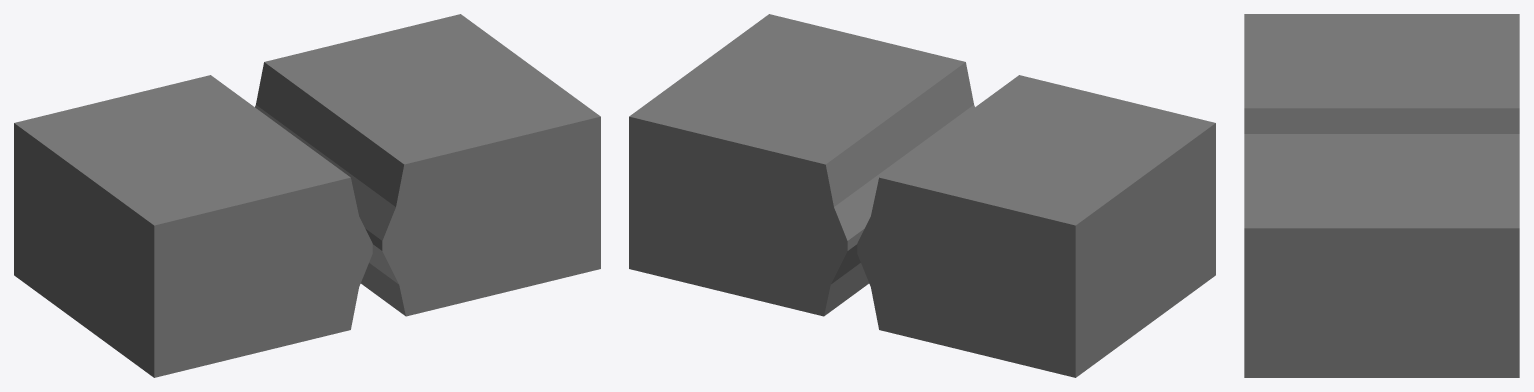
File: С27_Кромки.glb
3 renders of one model, left to right at view 1: azimuth 30°, elevation 25°; view 2: azimuth 150°, elevation 25°; view 3: azimuth 270°, elevation 25°, orthographic.
Visible parts, largest first — view 1: node_id3; view 2: node_id3; view 3: node_id3.
Boxes of the visible parts, bbox=[...] form: node_id3: bbox=[14, 14, 600, 377]; node_id3: bbox=[629, 14, 1215, 377]; node_id3: bbox=[1244, 14, 1519, 377].
Bounding box in the file's own units: 0.512 × 0.167 × 0.2783.
Materials: 1 (1 with a texture image).
